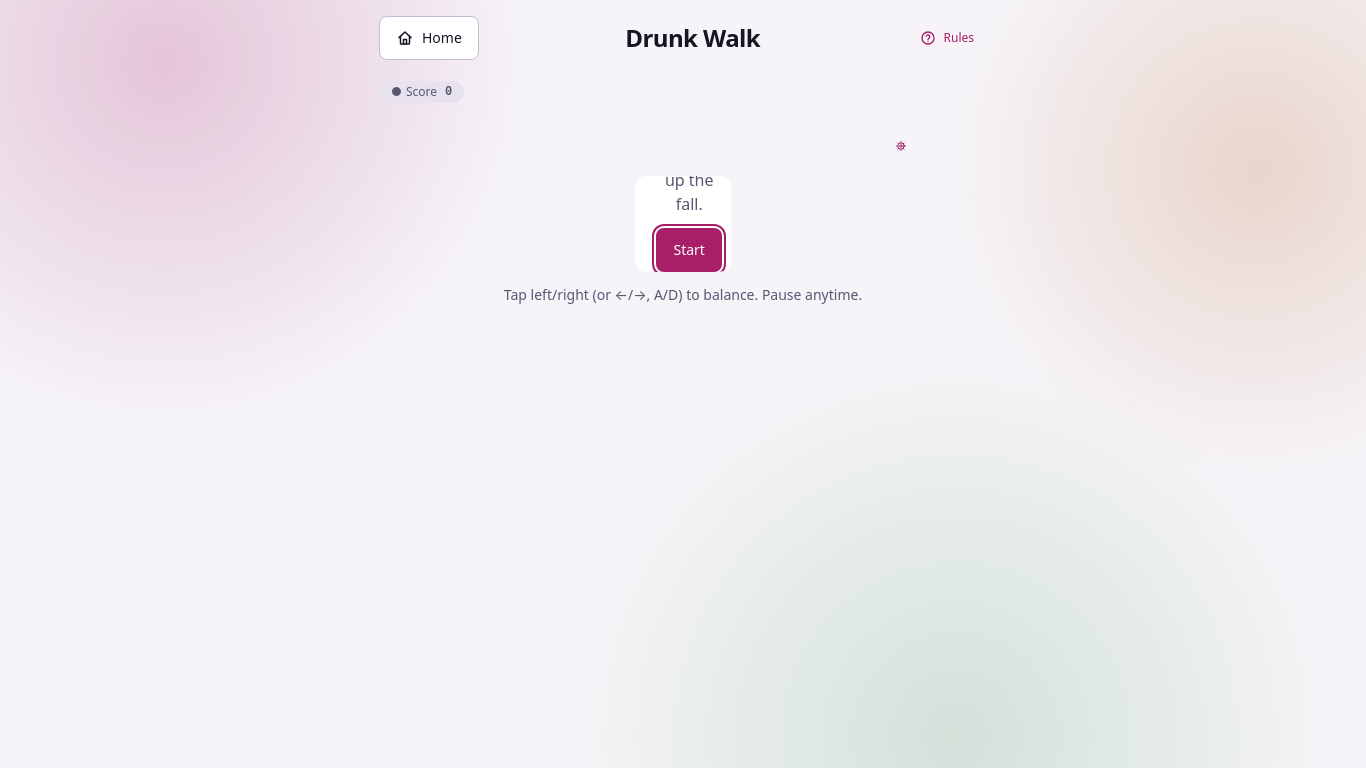
Test case: RealtimeGameRoute — Drunk Walk end-to-end › resolves a tap on the surface to left/right by horizontal position (tap-zone input)
(page scrolled)
Press the mouse on the element named "Drunk Walk play area" at coordinates (683, 224), box [635,176,731,272]
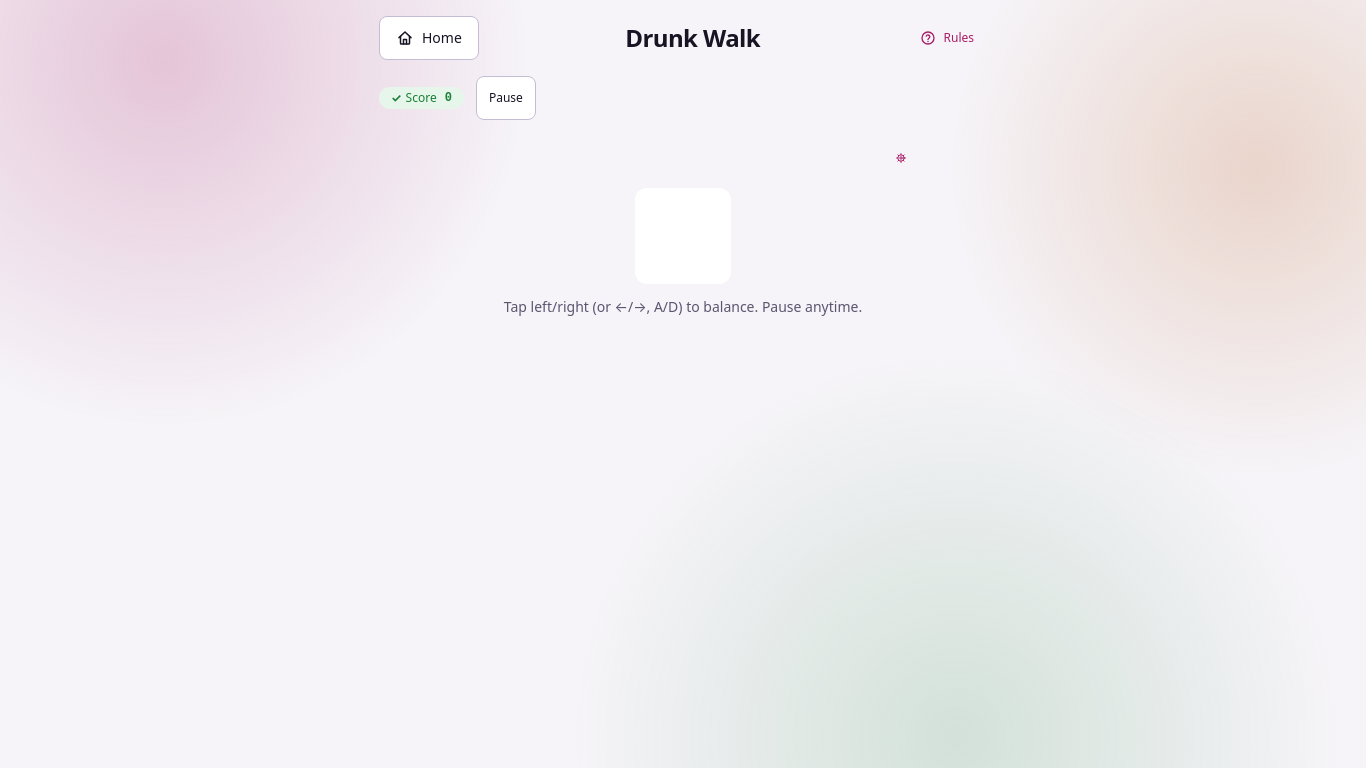
Expected: the button "Pause" is shown, [476,76,536,120]
